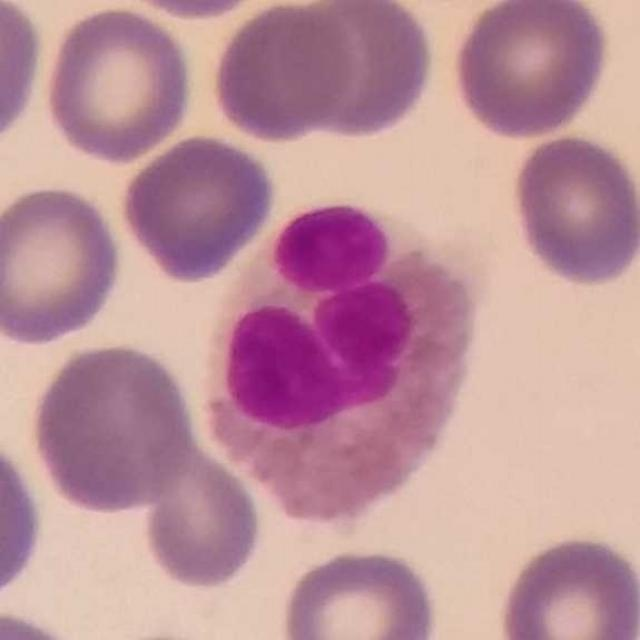eosino: (200, 198, 483, 526)
